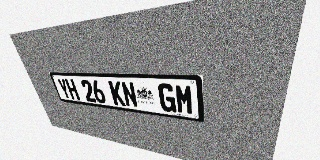2: (80, 79, 97, 102)
6: (90, 80, 107, 104)
G: (157, 83, 177, 113)
H: (64, 79, 80, 100)
K: (108, 81, 126, 106)
M: (174, 84, 194, 115)
N: (120, 81, 139, 108)
Y: (56, 78, 72, 99)
